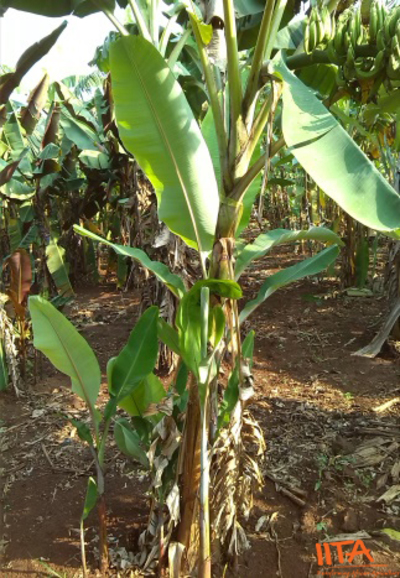bananaHand: (305, 1, 400, 124)
